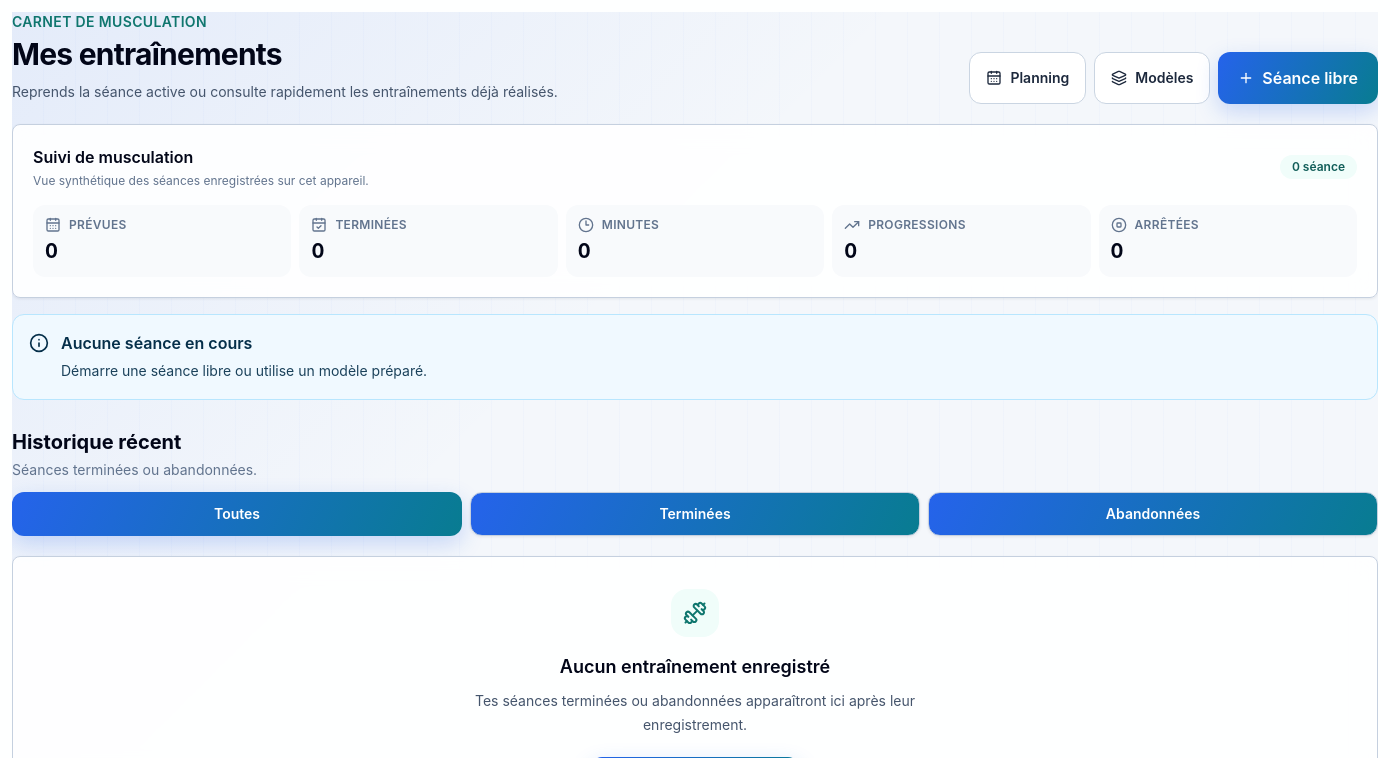
Test: WorkoutSessionsPage › garde une erreur locale unique lorsque le démarrage libre échoue
Click the button "Séance libre" at (1298, 78), box [1218,52,1378,104]
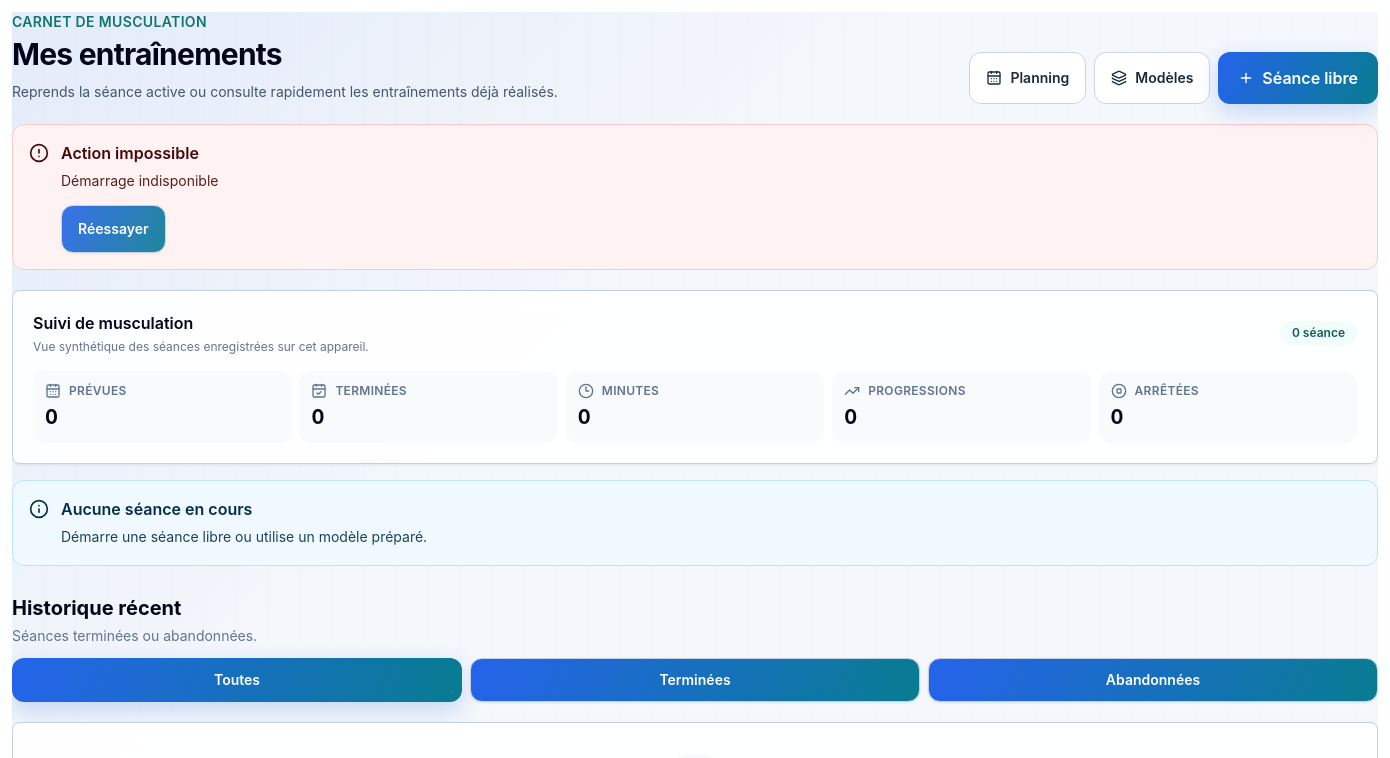
Result: the text "Démarrage indisponible" is shown at [61,169,218,193]
Result: the number of messages is 1 at [12,124,1378,270]
